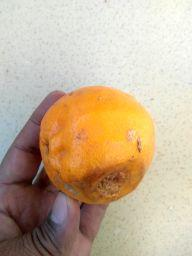Unripe: (41, 86, 159, 203)
